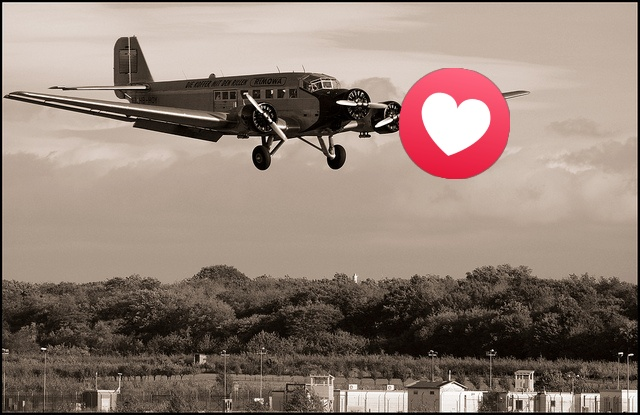love: (399, 68, 510, 179)
